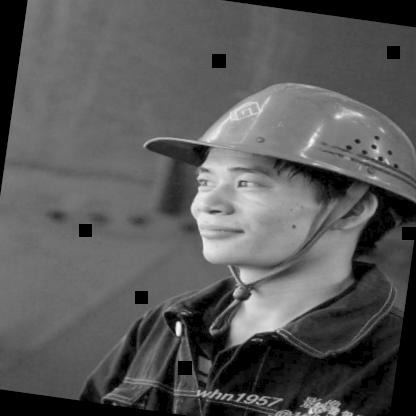helmet: (124, 47, 416, 315)
